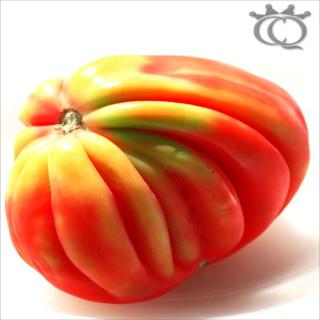tomato: (2, 54, 309, 304)
